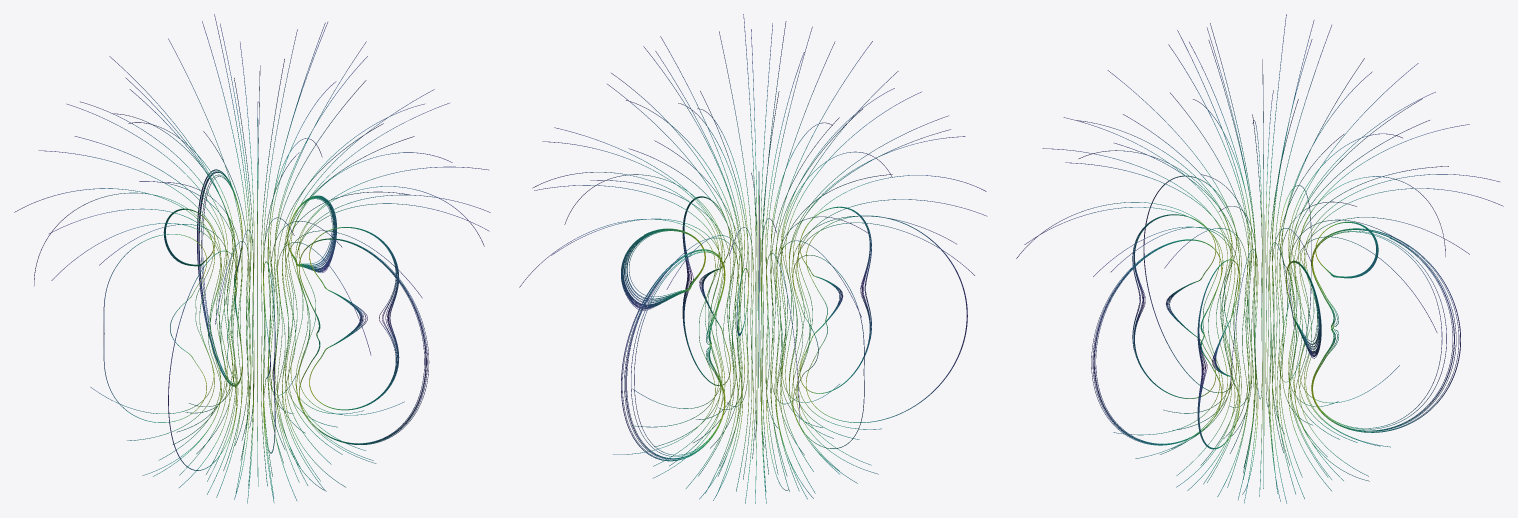
File: coil_1_field_lines.gltf
3 renders of one model, left to right at view 1: azimuth 30°, elevation 25°; view 2: azimuth 150°, elevation 25°; view 3: azimuth 270°, elevation 25°, orthographic.
Visible parts, largest first — view 1: Renderer Node; view 2: Renderer Node; view 3: Renderer Node.
Boxes of the visible parts, <box> form: Renderer Node: <box>14,14,490,503</box>; Renderer Node: <box>519,14,987,503</box>; Renderer Node: <box>1016,14,1503,503</box>.
Size of the model in its own units: 2.06 by 2.07 by 2.07.
Materials: 1 (1 with a texture image).
